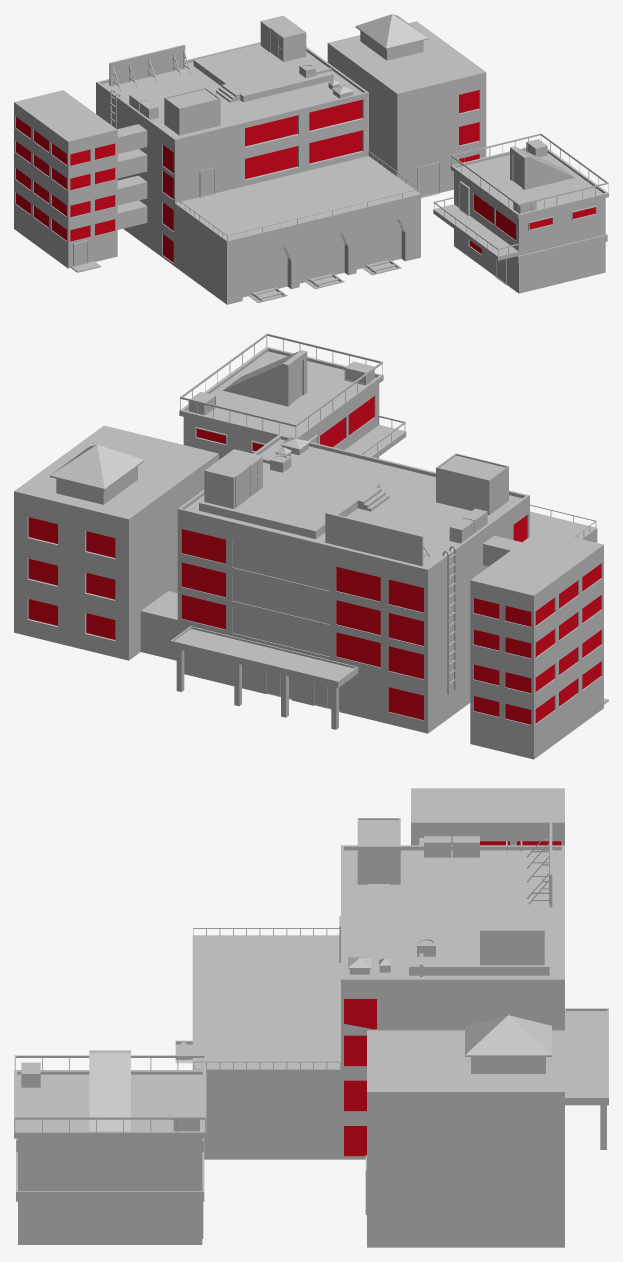
The model's file is SM_depot.gltf.
3 views of the same model, one above another, from view 1: azimuth 30°, elevation 25°; view 2: azimuth 150°, elevation 25°; view 3: azimuth 270°, elevation 25° (orthographic). The views are drawn at different scales.
Parts seen in each view (by area): view 1: depot; view 2: depot; view 3: depot.
Boxes of the visible parts, x1,y1,x2,y2 form: depot: (14, 14, 608, 304); depot: (14, 333, 608, 759); depot: (14, 788, 608, 1247).
Bounding box in the file's own units: 19.97 × 7.33 × 18.
